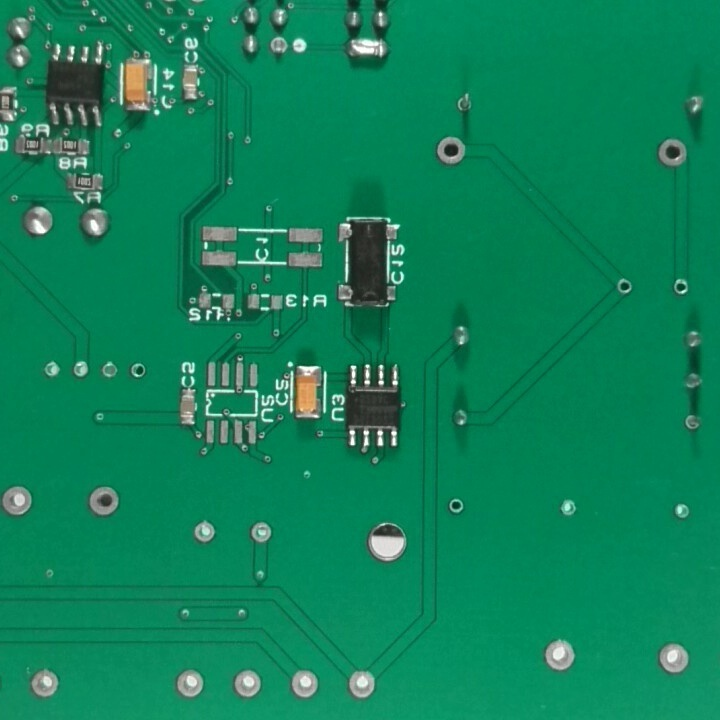F: (22, 664, 64, 700), (651, 642, 692, 678), (167, 664, 208, 700), (84, 481, 123, 518), (434, 135, 472, 171), (341, 666, 379, 702), (1, 483, 36, 521), (540, 638, 579, 672), (228, 665, 264, 701), (284, 666, 321, 701), (656, 135, 690, 171), (193, 517, 220, 549), (248, 521, 276, 548), (451, 91, 477, 120), (71, 357, 96, 383), (97, 358, 122, 383), (267, 33, 292, 58), (613, 275, 639, 299), (41, 356, 66, 380), (681, 412, 704, 438), (555, 498, 581, 520), (443, 496, 467, 519), (130, 358, 150, 384), (673, 502, 693, 525), (670, 276, 690, 296)
P: (342, 35, 394, 63)
